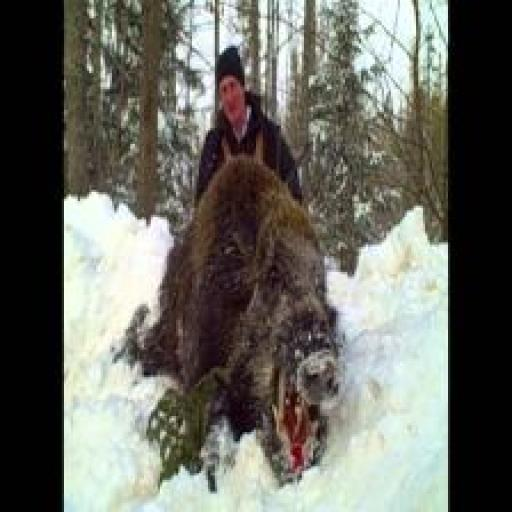Pig: (126, 155, 340, 480)
